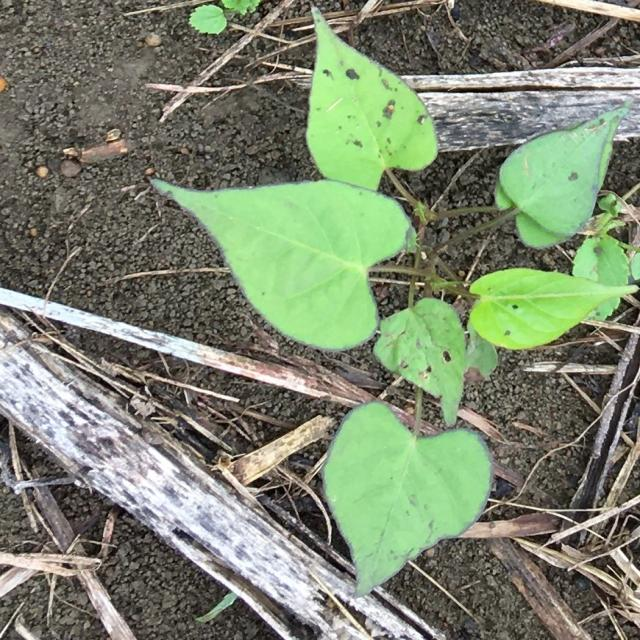MorningGlory: (150, 6, 640, 598)
